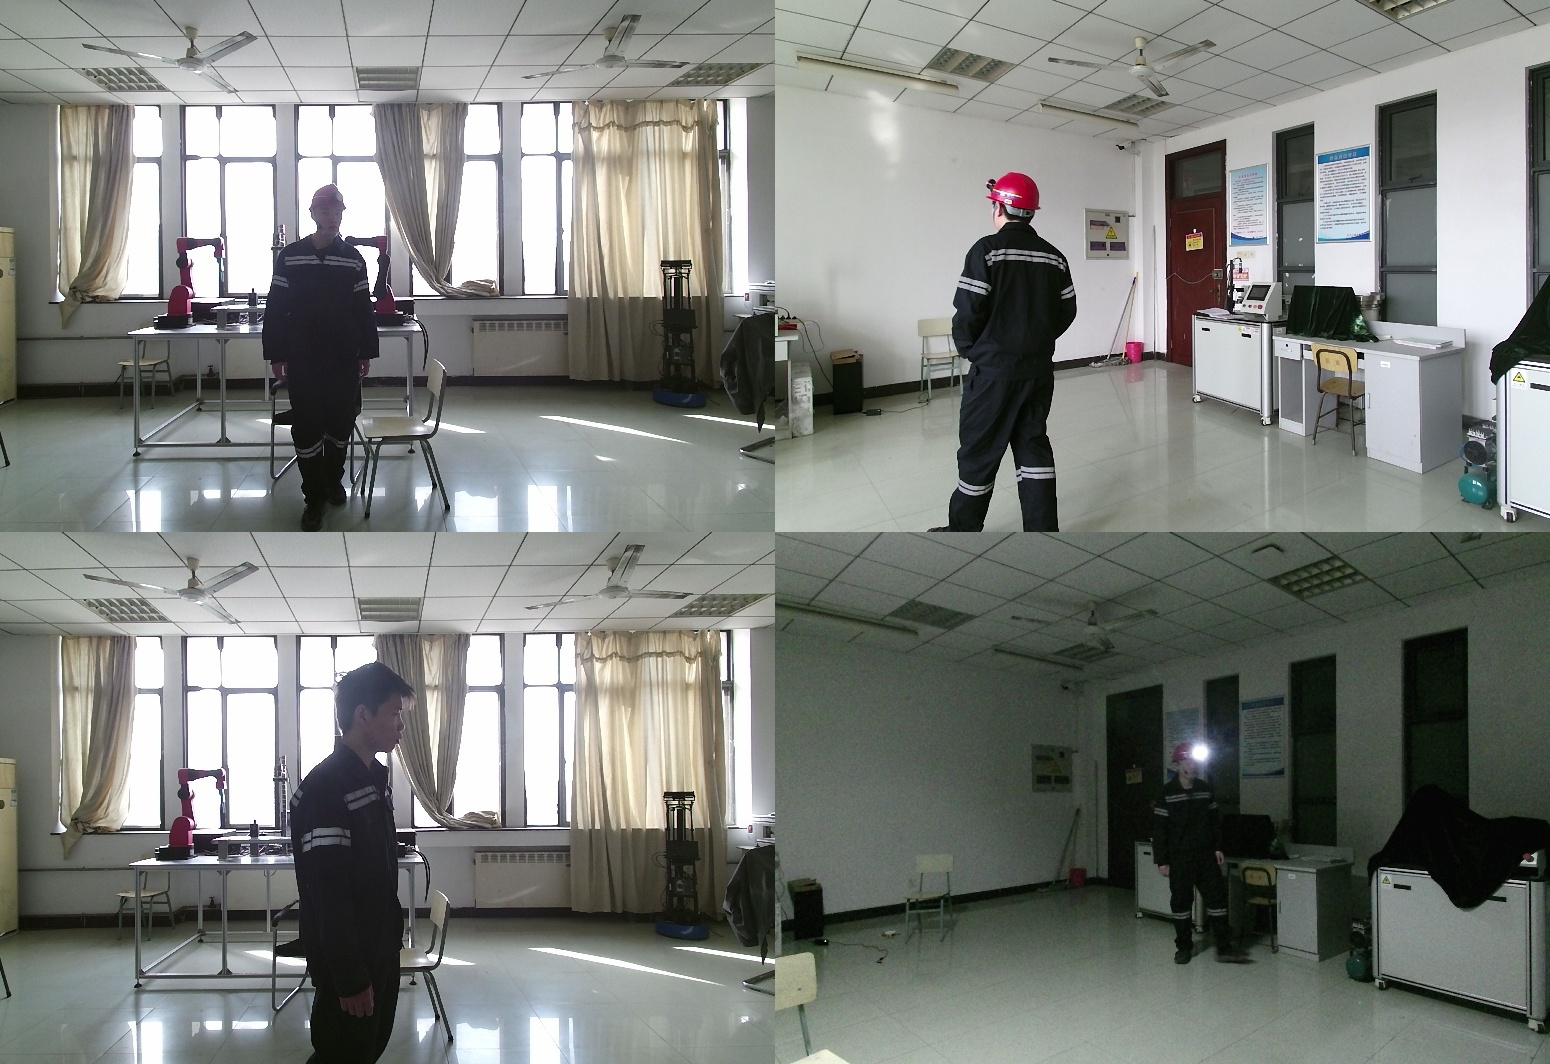person: (927, 172, 1094, 532), (295, 663, 429, 1064), (262, 184, 387, 532), (1146, 741, 1237, 975)
